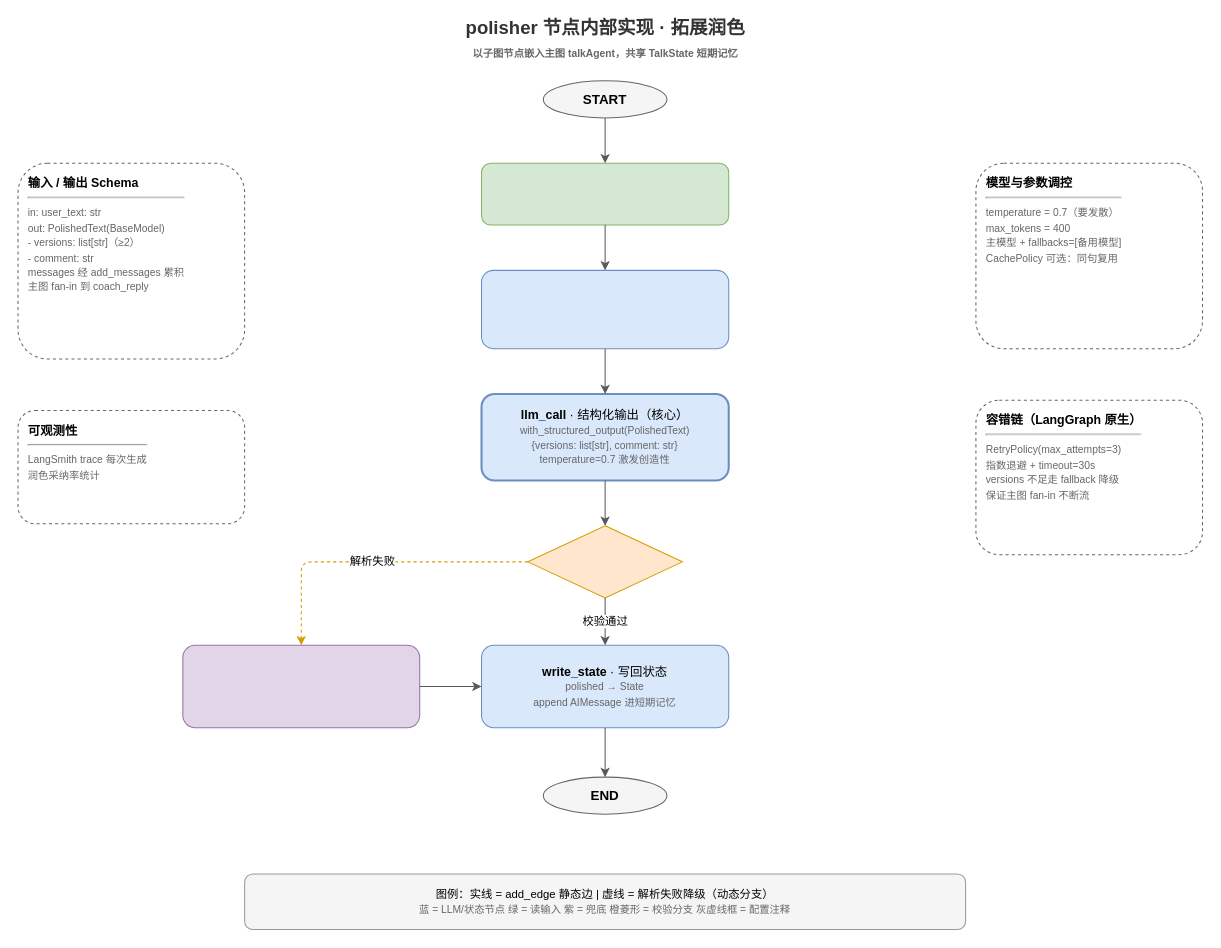
The diagram is 1221 pixels wide and 948 high, and some of its shapes have lost their labels. Here are the shapes that lost their labels. From the top down, the box of each, then its label:
(480, 162, 729, 225): load_input · 读 State 输入：user_text（语法无误分支才进入）
(480, 269, 729, 349): build_prompt · 润色提示词 2 个升级版：自然口语 + 地道进阶 附简短点评，难度贴合学习者水平
(527, 525, 682, 598): parse_validate 校验 versions 数量 ≥ 2
(182, 644, 420, 728): fallback · 降级兜底 输出 1 个版本 + 通用点评
